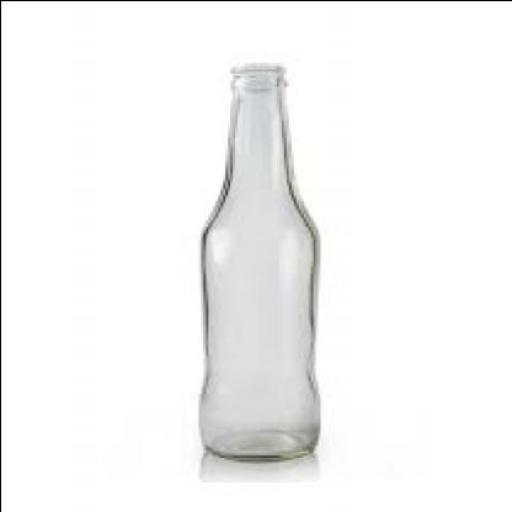glass: (200, 60, 322, 458)
